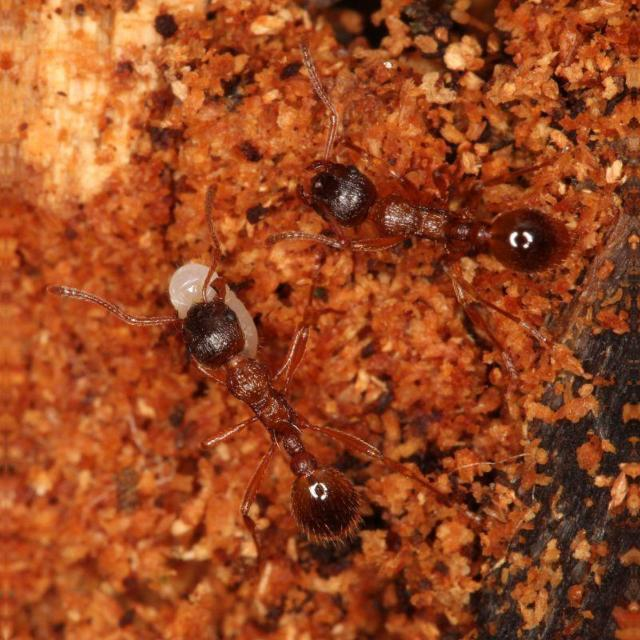Myrmica: (164, 297, 422, 607), (291, 138, 601, 300)
